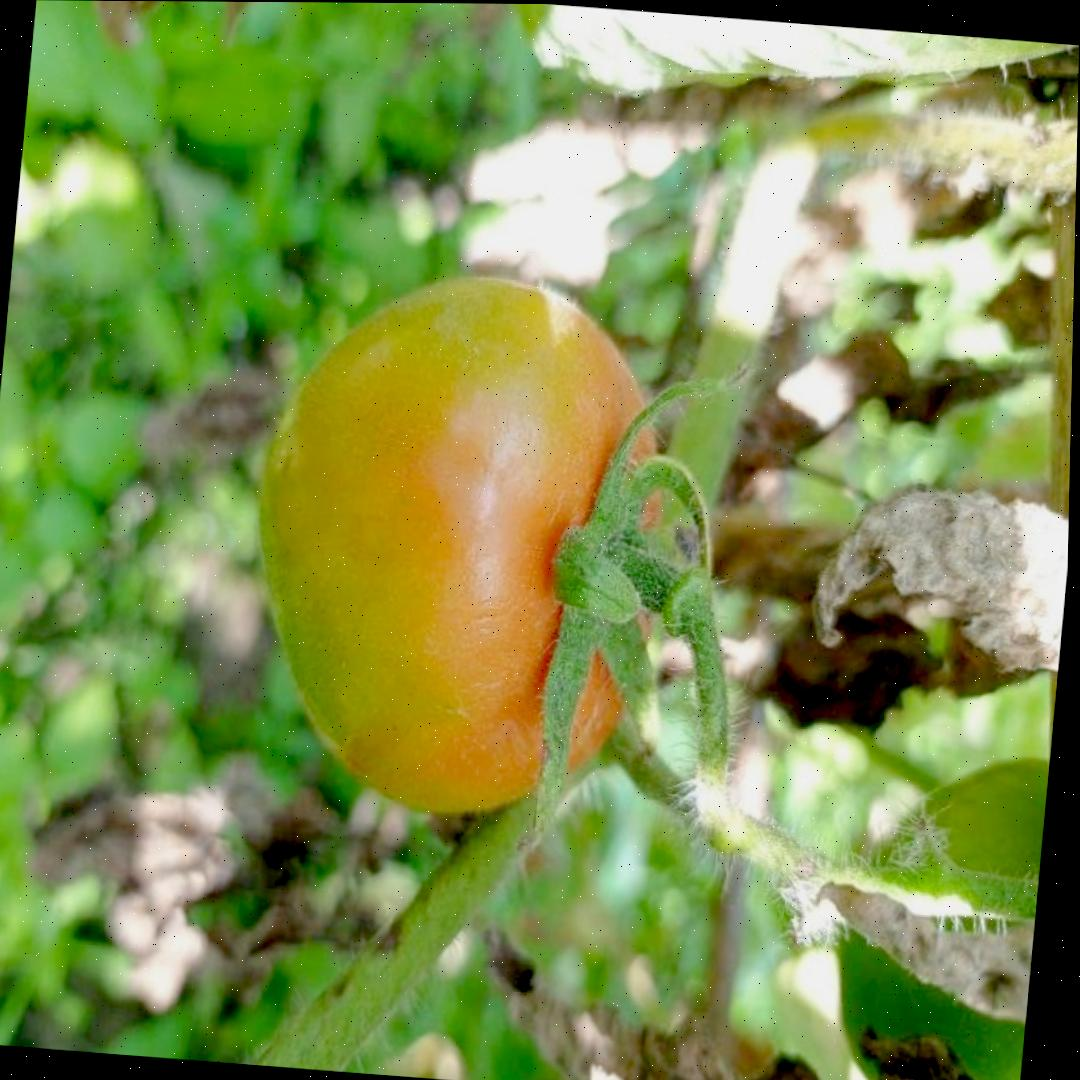setengah_matang: (231, 257, 686, 832)
